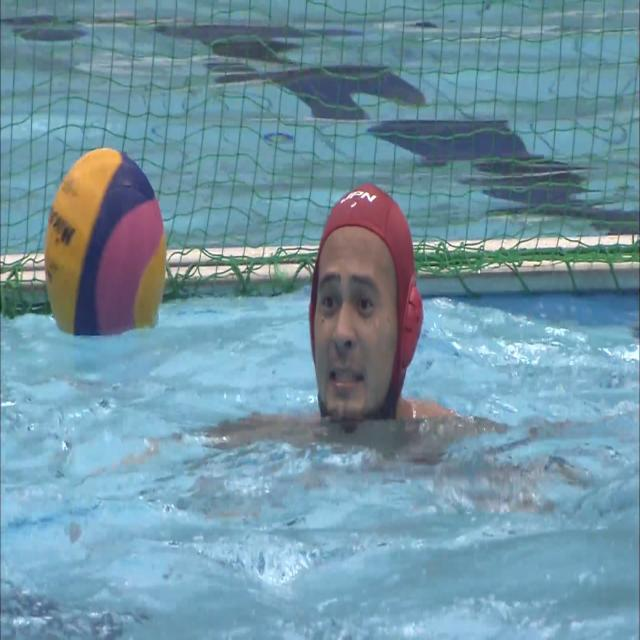ball: (45, 147, 166, 338)
